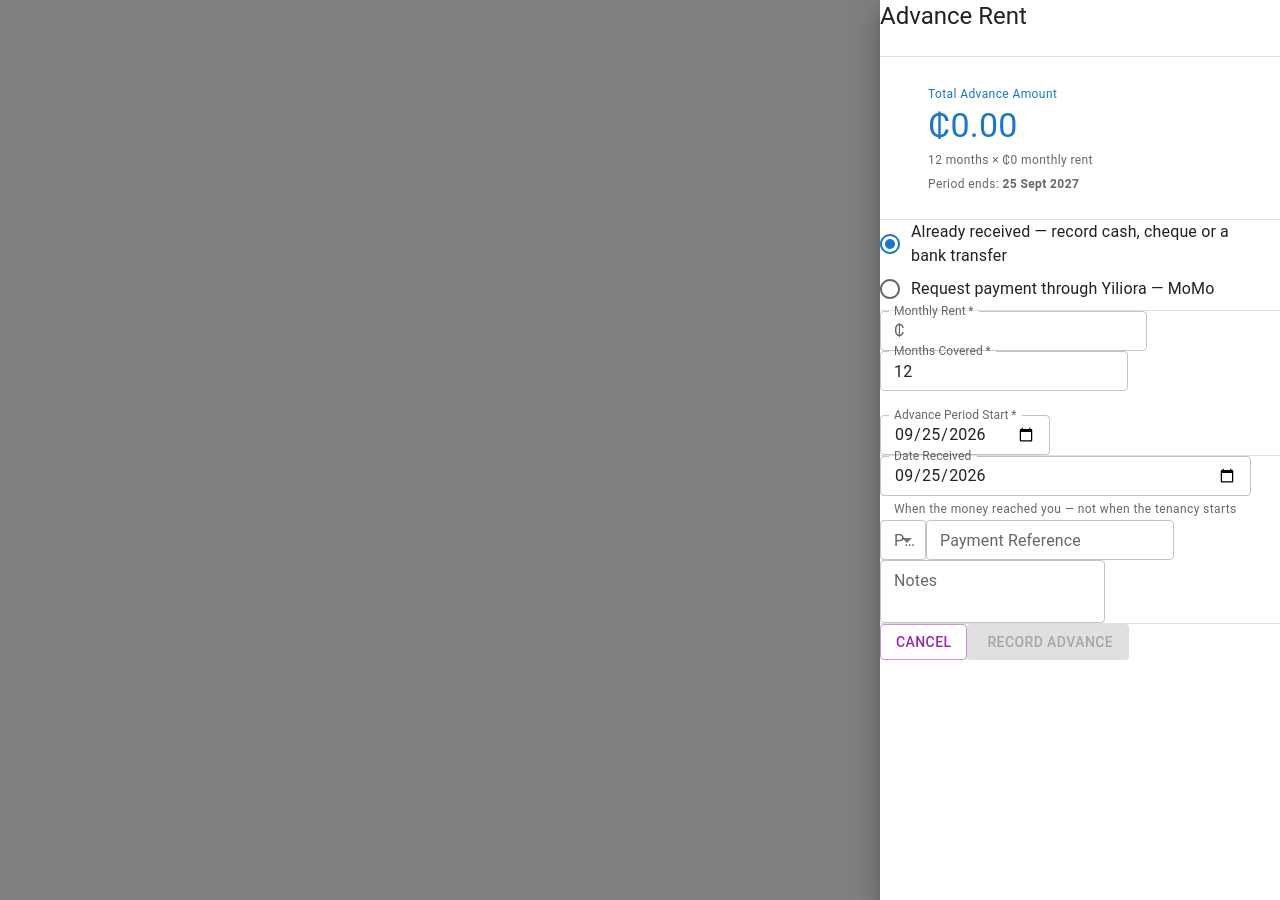
Test: AddAdvanceRentDrawer › rejects more months than allowed when asking the occupant to pay
Click the radio button labelled "Request payment through Yiliora — MoMo" at [1046, 289], box [878, 277, 1214, 301]
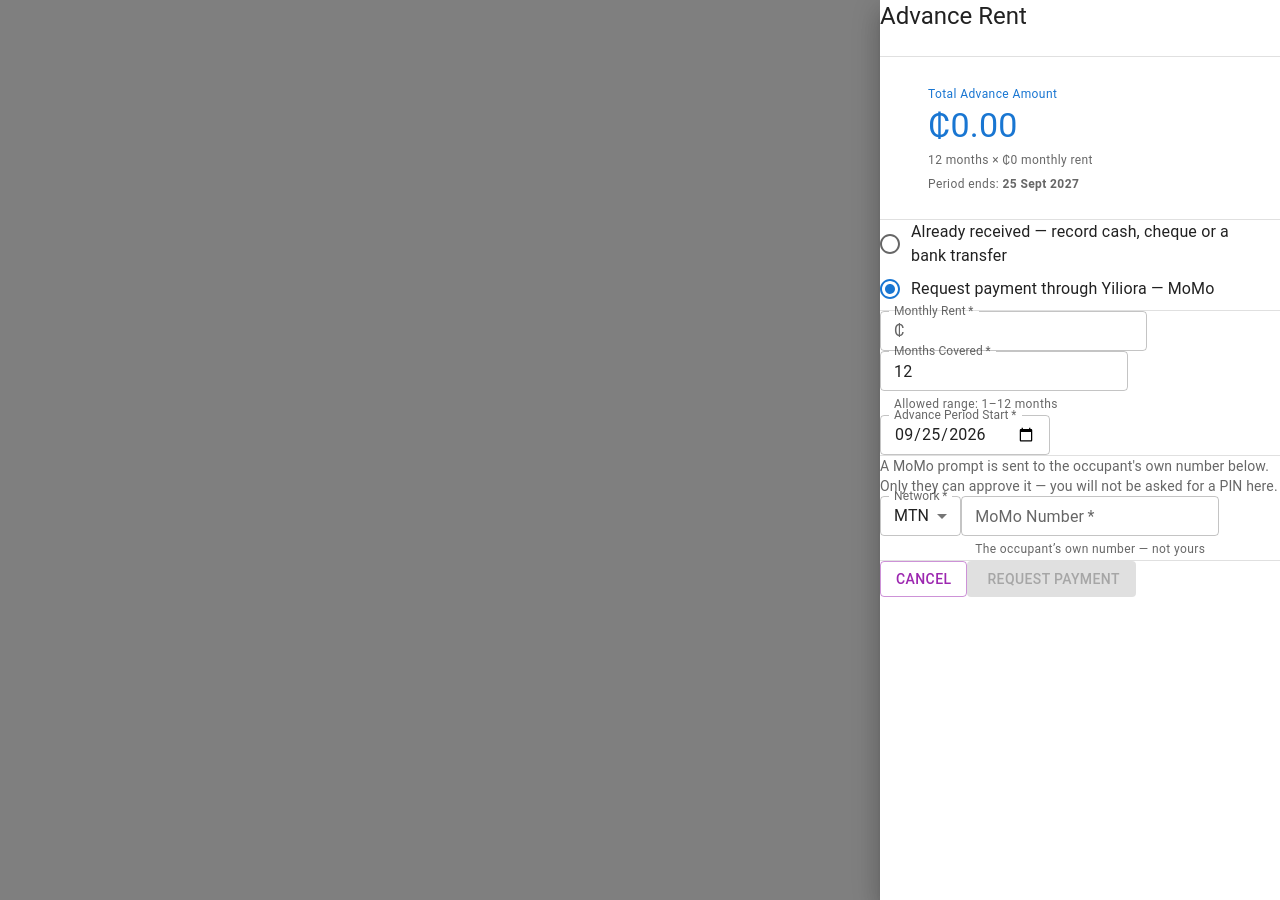
Replace the text in the number field labelled "Months Covered *" with "24" at [1004, 371], box [880, 351, 1128, 391]
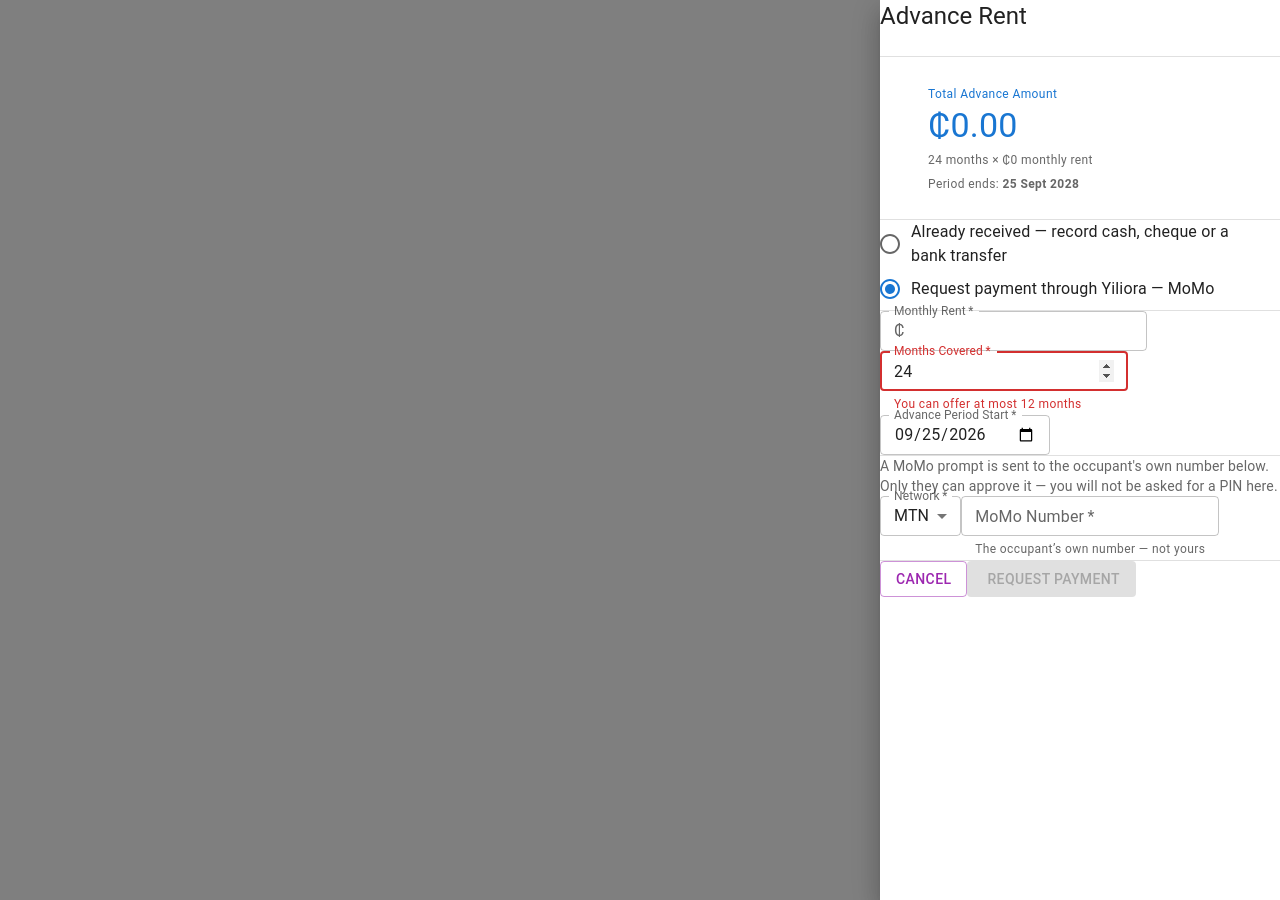
Check: the text "You can offer at most 12 months" is shown, box [894, 395, 1114, 415]
